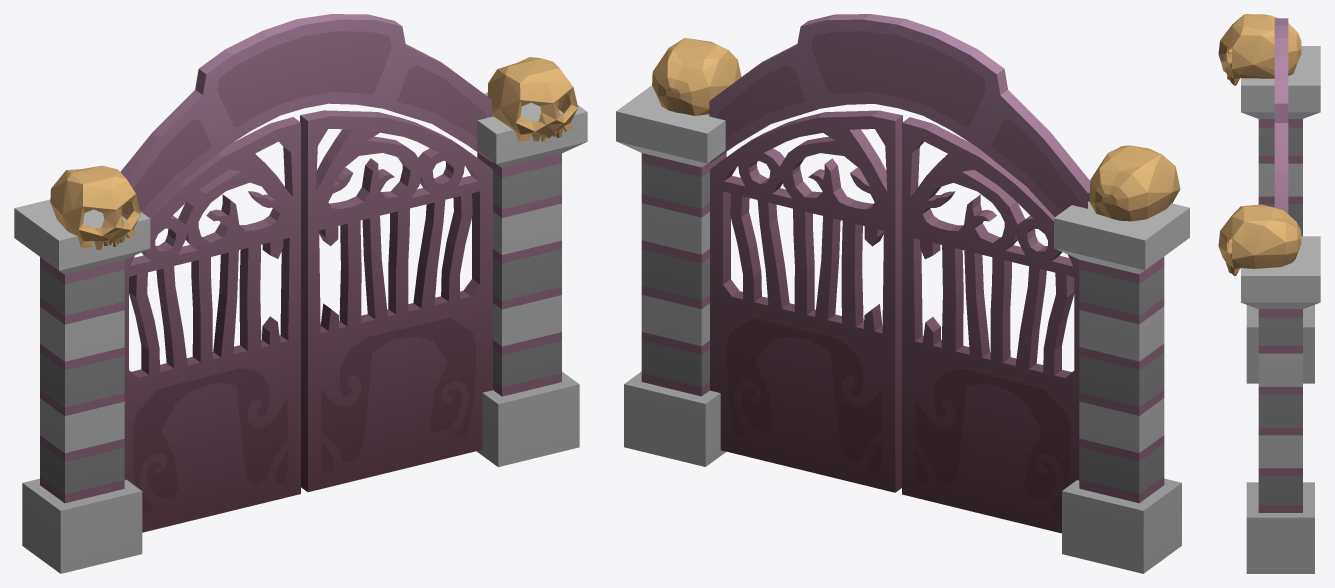
Rendered from halloween gate.fbx.
3 views of the same model, side by side, from view 1: azimuth 30°, elevation 25°; view 2: azimuth 150°, elevation 25°; view 3: azimuth 270°, elevation 25° (orthographic). The views are drawn at different scales.
Parts seen in each view (by area): view 1: halloween gate; view 2: halloween gate; view 3: halloween gate.
Boxes of the visible parts, x1,y1,x2,y2 form: halloween gate: [14, 14, 587, 573]; halloween gate: [616, 14, 1189, 573]; halloween gate: [1218, 14, 1320, 573].
Size of the model in its own units: 355 by 305 by 66.6.
